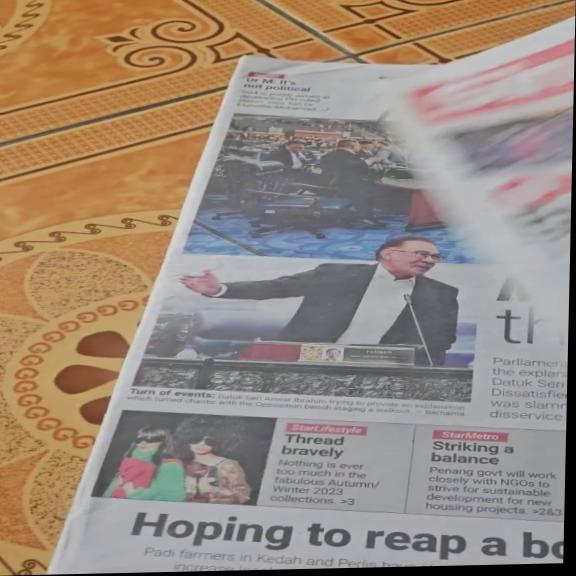Kertas: (57, 274, 562, 569)
